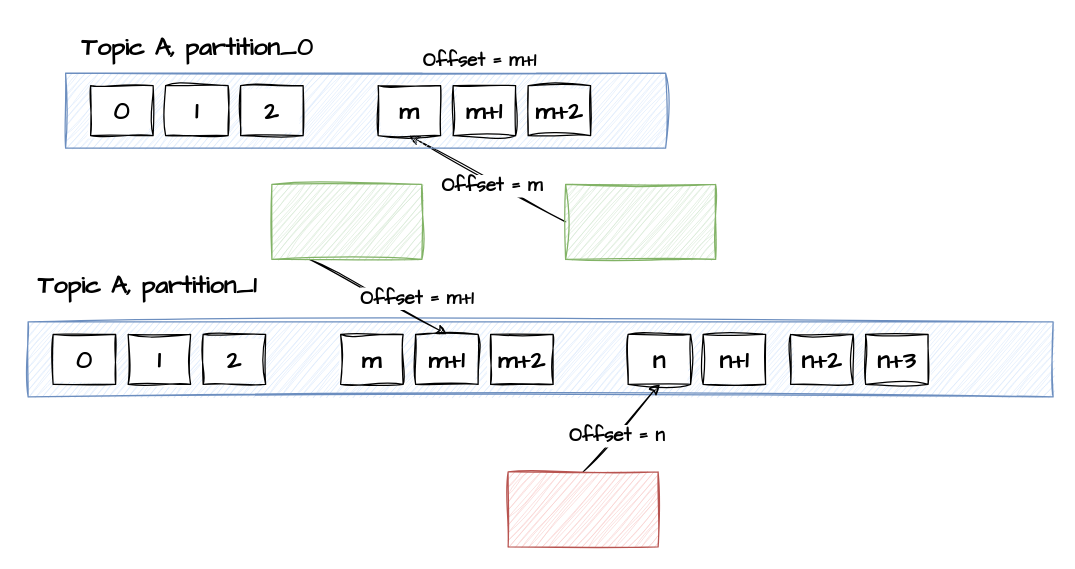
Some shapes in this 1075 by 569 pixel diagram are drawn without their labels. The shapes that lost their labels are listed below. From the top down, each one's centre as x and y in pixels, then its label:
point 346,221: Consumer 2 group-id: group-1
point 640,221: Consumer 1 group-id: group-1
point 582,509: Consumer 3 group-id: group-2
